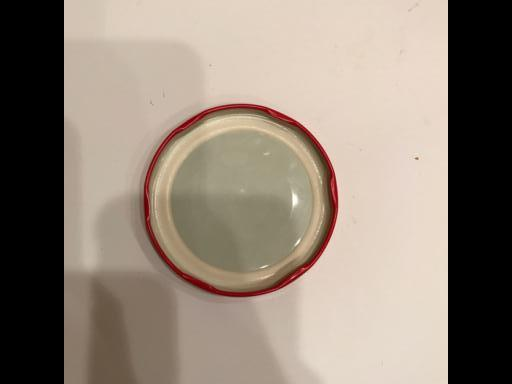metal: (139, 101, 338, 299)
